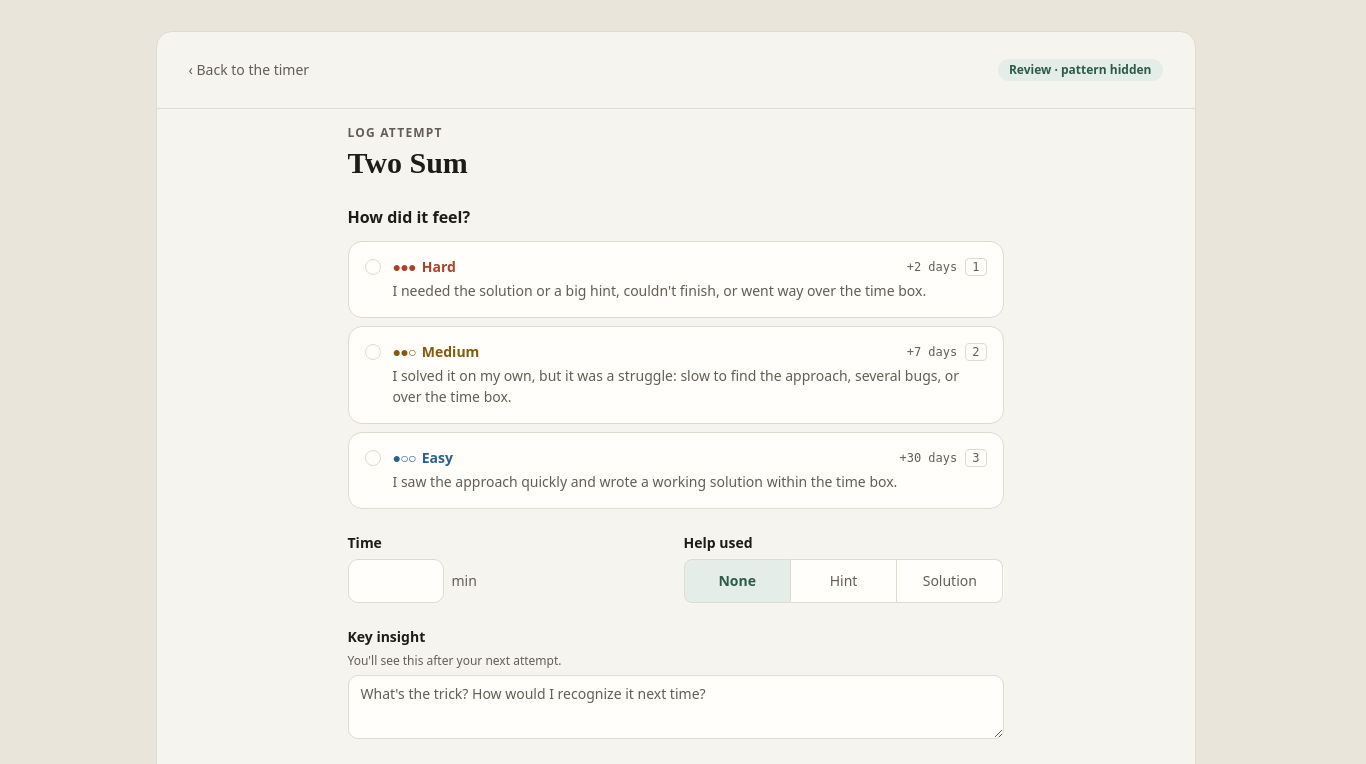
Test: LogPage saving › reveals the pattern, the last attempt's insight and the solution link once saved
The width and height of the screenshot is (1366, 764).
Click the radio button named "Medium" next to "Medium" at (372, 352), box [364, 344, 380, 360]
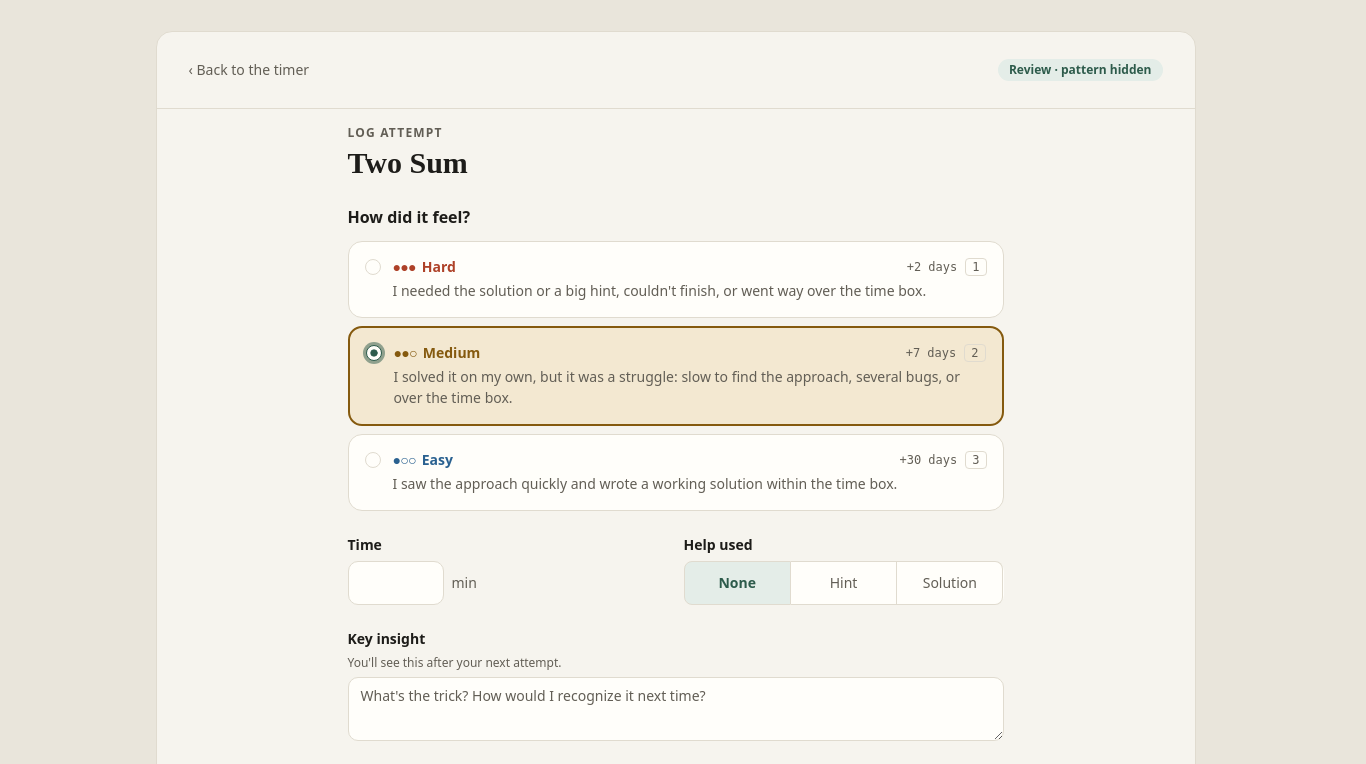
Type "15" into the number field labelled "Time" at (396, 583), box [348, 561, 444, 605]
(page scrolled)
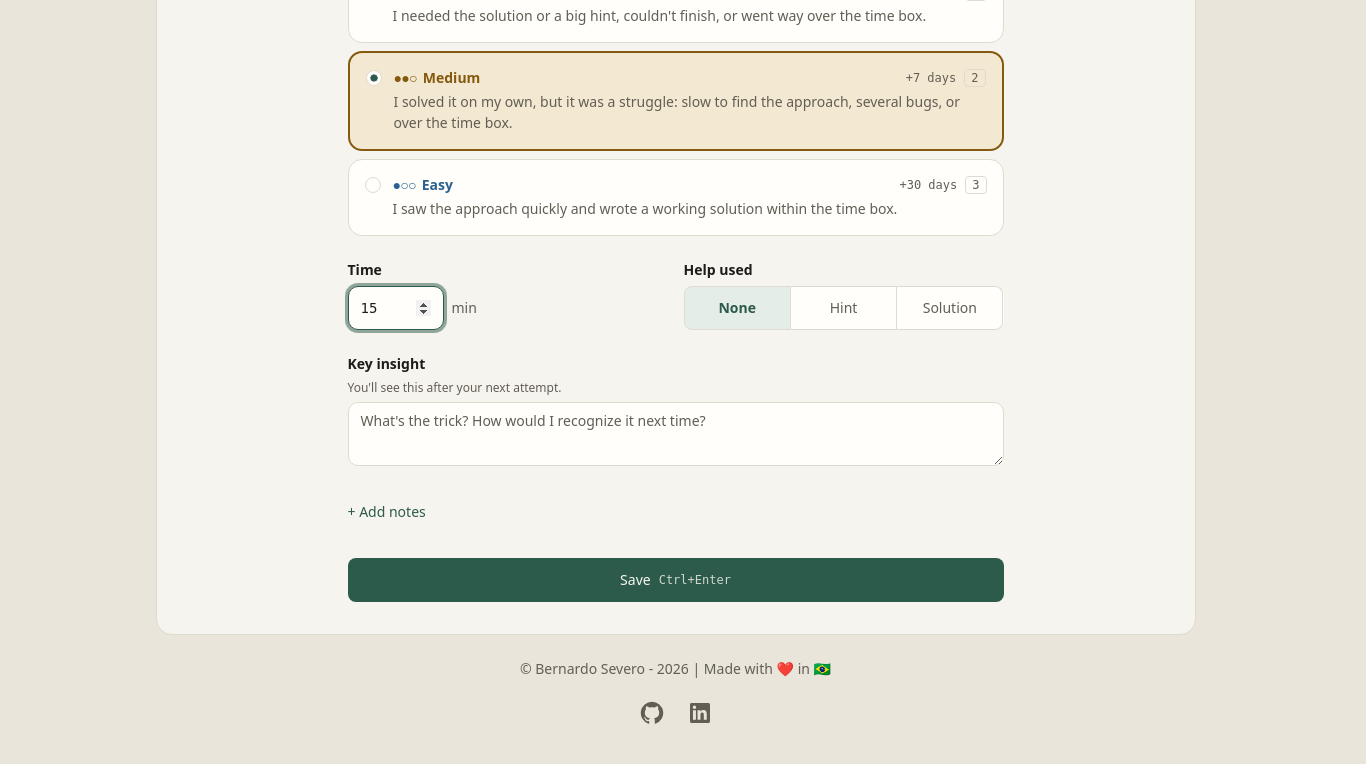
Click the button "Save Ctrl+Enter" at (676, 580), box [348, 558, 1004, 602]
(page scrolled)
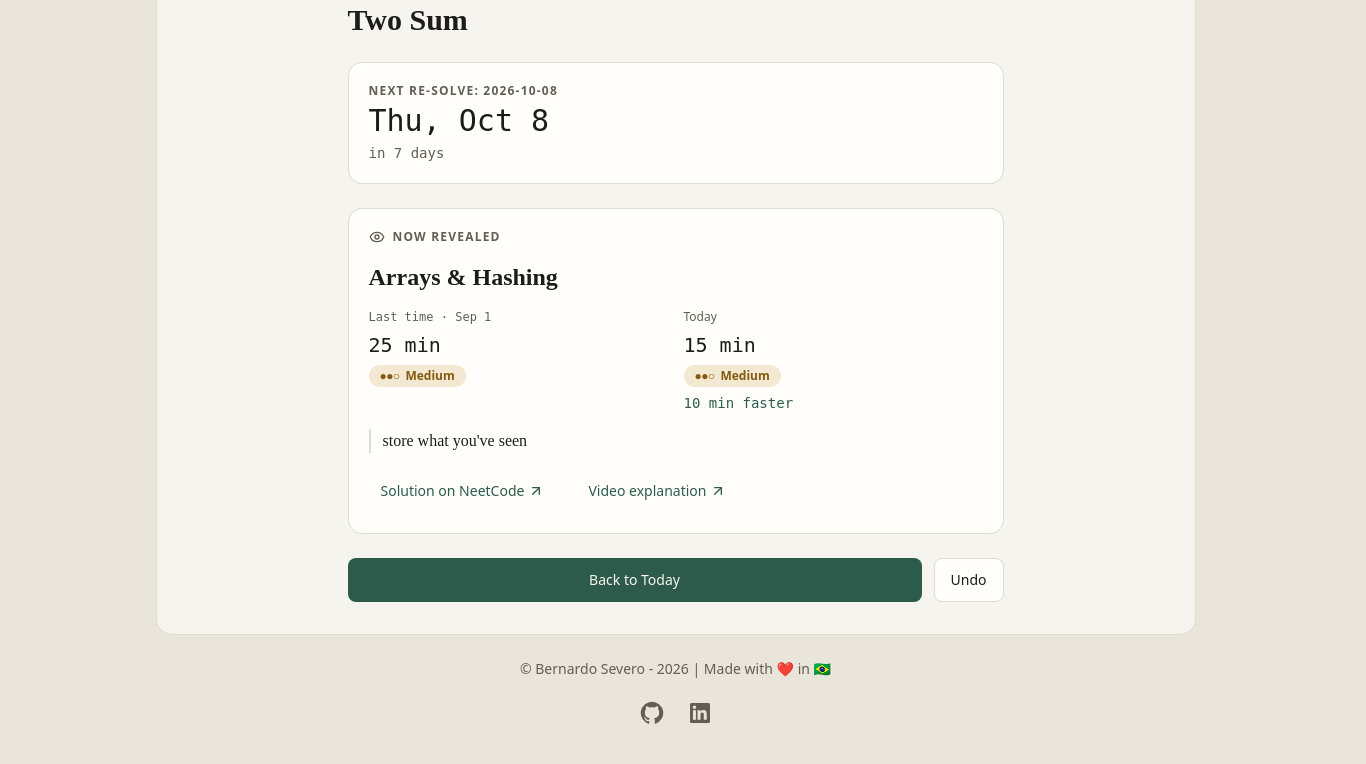
Expected: the text "Arrays & Hashing" is shown, [368, 264, 558, 290]
Expected: the text "store what you've seen" is shown, [368, 429, 982, 453]
Expected: the text "10 min faster" is shown, [684, 393, 793, 413]
